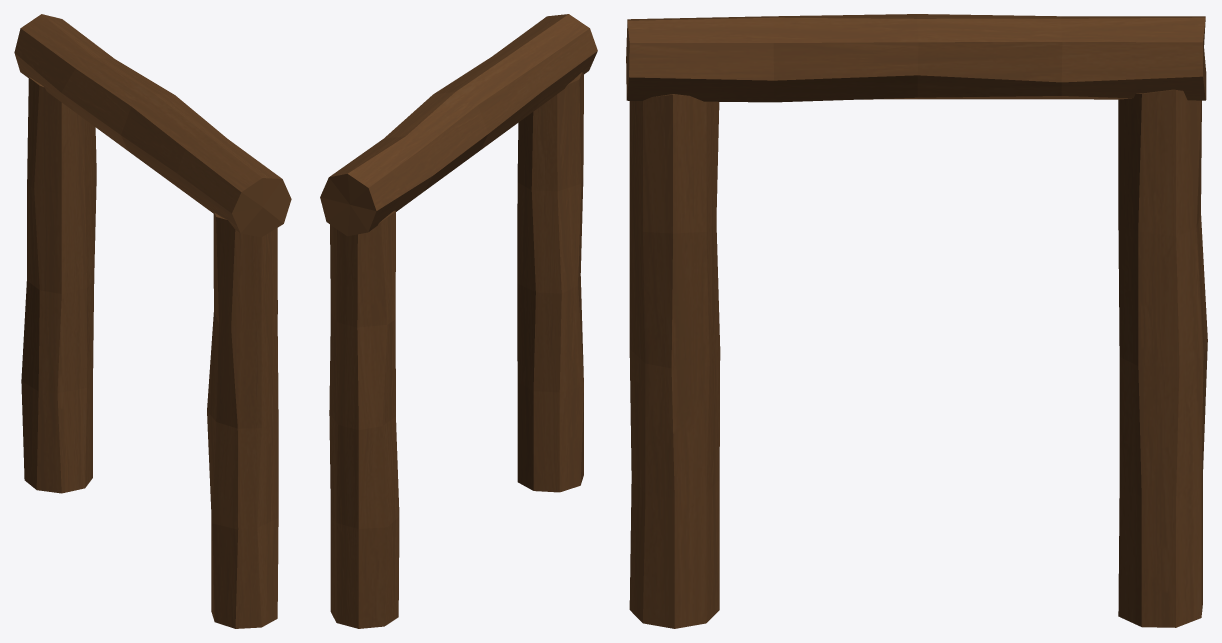
The model's file is Doorway_Open.fbx.
3 renders of one model, left to right at view 1: azimuth 30°, elevation 25°; view 2: azimuth 150°, elevation 25°; view 3: azimuth 270°, elevation 25°, orthographic. The views are drawn at different scales.
Parts seen in each view (by area): view 1: pCylinder4; view 2: pCylinder4; view 3: pCylinder4.
Boxes of the visible parts, x1=… form: pCylinder4: x1=14, y1=14, x2=291, y2=628; pCylinder4: x1=320, y1=14, x2=597, y2=628; pCylinder4: x1=626, y1=14, x2=1207, y2=628.
Bounding box in the file's own units: 55.3 × 363 × 323.
Materials: 1 (1 with a texture image).
